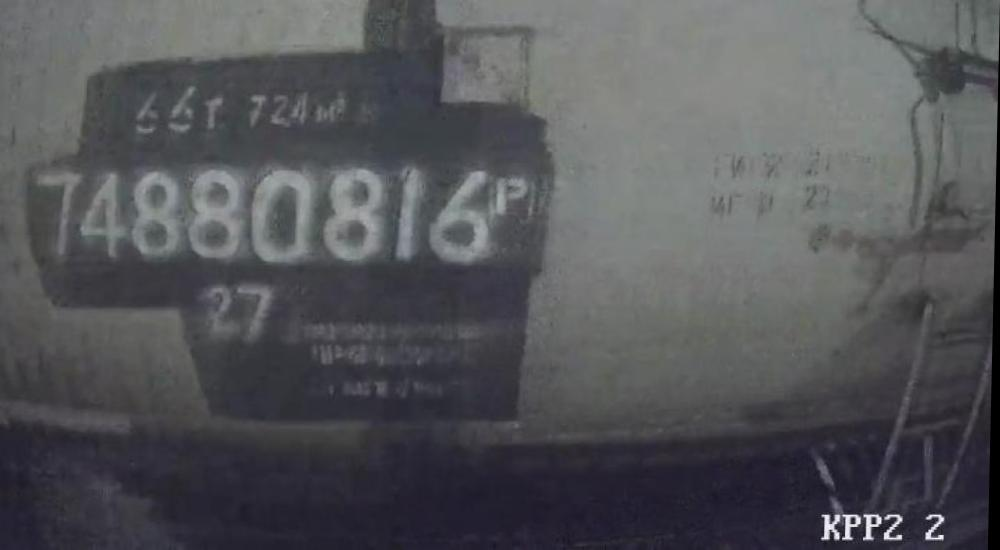Wagon-number: (22, 162, 500, 276)
